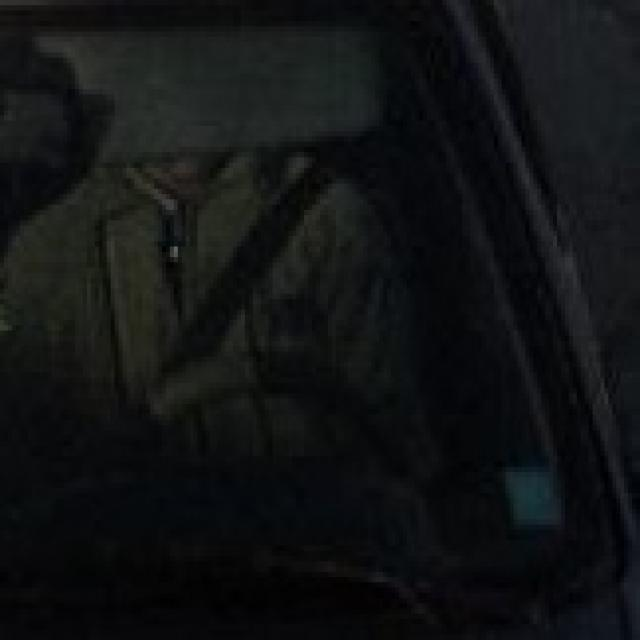seatbelt: (166, 94, 391, 330)
